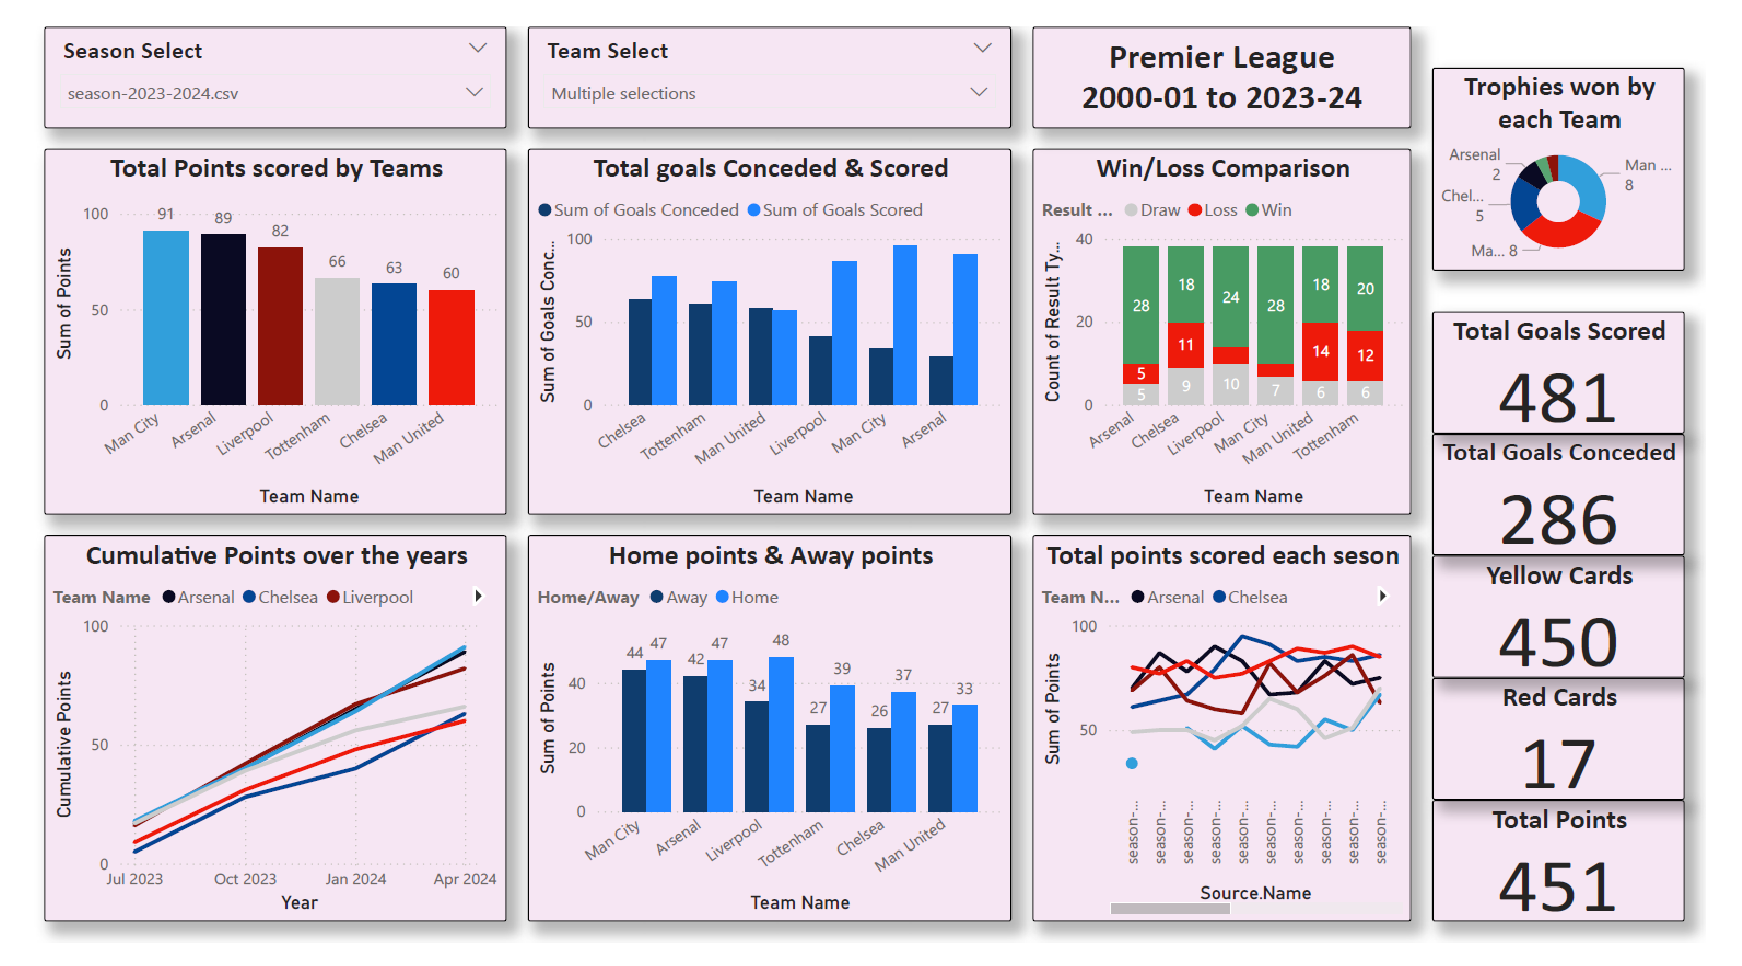

The dashboard page shown, as its layout file describes it:
{"tool":"powerbi","page":{"name":"Page 2","canvas":[1280,720],"ordinal":0},"visuals":[{"type":"slicer","fields":{"Values":["TeamPerformance.Source.Name"]},"box":[16,0,352,80],"z":0},{"type":"slicer","fields":{"Values":["TeamPerformance.Team Name"]},"box":[384,0,368,80],"z":1000},{"type":"card","title":"Total Points","fields":{"Values":["Sum(TeamPerformance.Points)"]},"box":[1072,608,192,96],"z":2000},{"type":"card","title":"Red Cards","fields":{"Values":["Sum(TeamPerformance.Red Cards)"]},"box":[1072,512,192,96],"z":3000},{"type":"card","title":"Yellow Cards","fields":{"Values":["Sum(TeamPerformance.Yellow Cards)"]},"box":[1072,416,192,96],"z":4000},{"type":"card","title":"Total Goals Conceded","fields":{"Values":["Sum(TeamPerformance.Goals Conceded)"]},"box":[1072,320,192,96],"z":5000},{"type":"card","title":"Total Goals Scored","fields":{"Values":["Sum(TeamPerformance.Goals Scored)"]},"box":[1072,224,192,96],"z":6000},{"type":"clusteredColumnChart","title":"Total Points scored by Teams","fields":{"Y":["Sum(TeamPerformance.Points)"],"Category":["TeamPerformance.Team Name"]},"box":[16,96,352,288],"z":7000},{"type":"clusteredColumnChart","title":"Total goals Conceded & Scored","fields":{"Category":["TeamPerformance.Team Name"],"Y":["Sum(TeamPerformance.Goals Conceded)","Sum(TeamPerformance.Goals Scored)"]},"box":[384,96,368,288],"z":8000},{"type":"columnChart","title":"Win/Loss Comparison","fields":{"Category":["TeamPerformance.Team Name"],"Series":["TeamPerformance.Result Type"],"Y":["CountNonNull(TeamPerformance.Result Type)"]},"box":[768,96,288,288],"z":9000},{"type":"lineChart","title":"Cumulative Points over the years","fields":{"Category":["TeamPerformance.Date.Variation.Date Hierarchy.Year","TeamPerformance.Date.Variation.Date Hierarchy.Quarter","TeamPerformance.Date.Variation.Date Hierarchy.Month","TeamPerformance.Date.Variation.Date Hierarchy.Day"],"Series":["TeamPerformance.Team Name"],"Y":["TeamPerformance.Cumulative Points"]},"box":[16,400,352,304],"z":10000},{"type":"clusteredColumnChart","title":"Home points & Away points","fields":{"Category":["TeamPerformance.Team Name"],"Series":["TeamPerformance.Home/Away"],"Y":["Sum(TeamPerformance.Points)"]},"box":[384,400,368,304],"z":11000},{"type":"lineChart","title":"Total points scored each seson","fields":{"Category":["TeamPerformance.Source.Name"],"Series":["TeamPerformance.Team Name"],"Y":["Sum(TeamPerformance.Points)"]},"box":[768,400,288,304],"z":12000},{"type":"donutChart","title":"Trophies won by each Team","fields":{"Category":["SeasonWinners.Team Name"],"Y":["CountNonNull(SeasonWinners.Source.Name)"]},"box":[1072,32,192,160],"z":13000},{"type":"textbox","box":[768,0,288,80],"z":14000}]}

Visuals, with their boxes in screenshot pixels (x1, y1, x2, y2), scaled from the page's 1280x720 canvas onto the 1742x966 screenshot:
slicer - TeamPerformance.Source.Name: bbox=(22, 0, 501, 107)
slicer - TeamPerformance.Team Name: bbox=(523, 0, 1023, 107)
"Total Points" card: bbox=(1459, 816, 1720, 945)
"Red Cards" card: bbox=(1459, 687, 1720, 816)
"Yellow Cards" card: bbox=(1459, 558, 1720, 687)
"Total Goals Conceded" card: bbox=(1459, 429, 1720, 558)
"Total Goals Scored" card: bbox=(1459, 301, 1720, 429)
"Total Points scored by Teams" clusteredColumnChart: bbox=(22, 129, 501, 515)
"Total goals Conceded & Scored" clusteredColumnChart: bbox=(523, 129, 1023, 515)
"Win/Loss Comparison" columnChart: bbox=(1045, 129, 1437, 515)
"Cumulative Points over the years" lineChart: bbox=(22, 537, 501, 945)
"Home points & Away points" clusteredColumnChart: bbox=(523, 537, 1023, 945)
"Total points scored each seson" lineChart: bbox=(1045, 537, 1437, 945)
"Trophies won by each Team" donutChart: bbox=(1459, 43, 1720, 258)
textbox: bbox=(1045, 0, 1437, 107)
